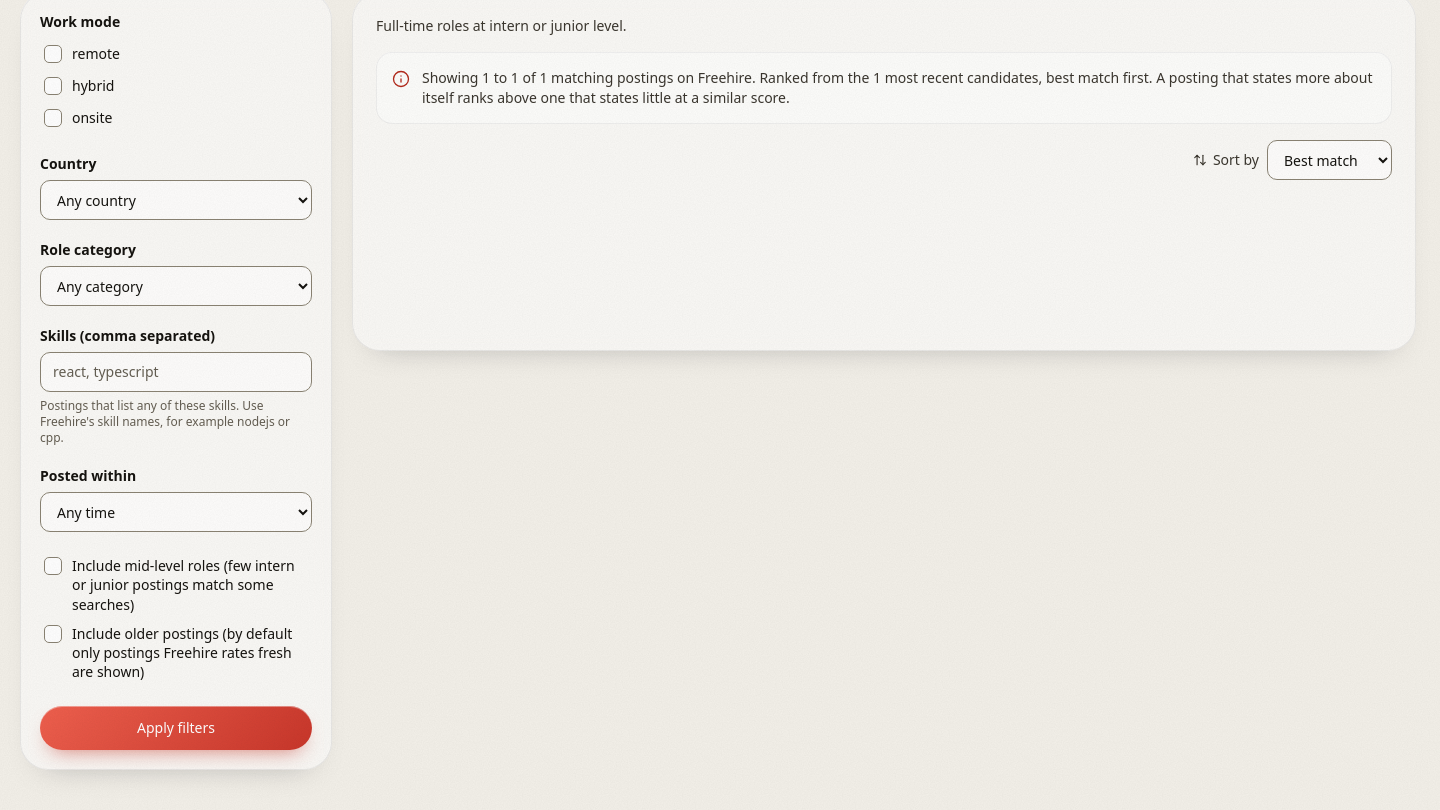
Test: search, filters and paging › includes older postings and broadens full-time roles only when the student chooses to
The width and height of the screenshot is (1440, 810).
(page scrolled)
Click the checkbox labelled "Include mid-level roles" at x=176, y=585, box [40,552,312,618]
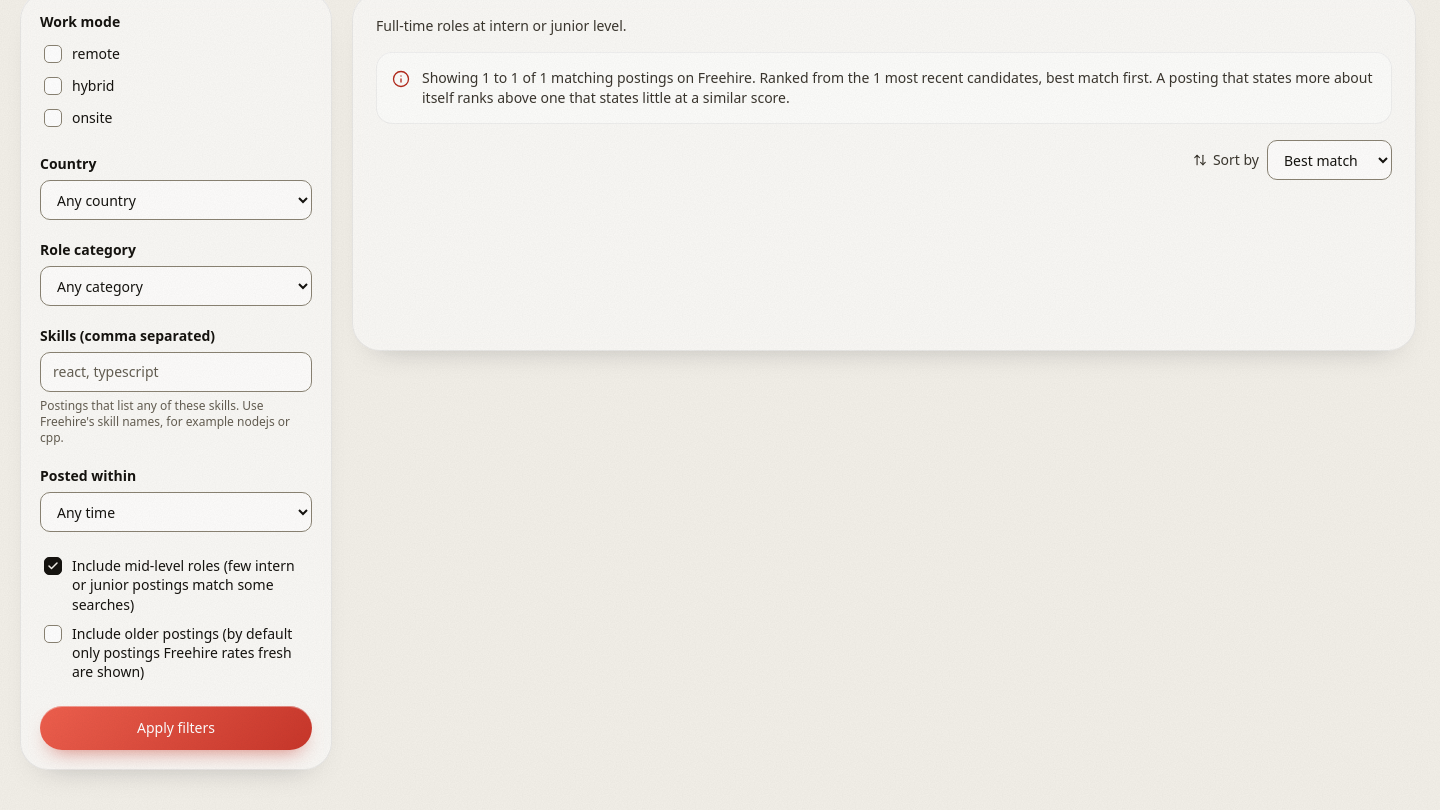
Click the checkbox labelled "Include older postings" at x=176, y=653, box [40,620,312,686]
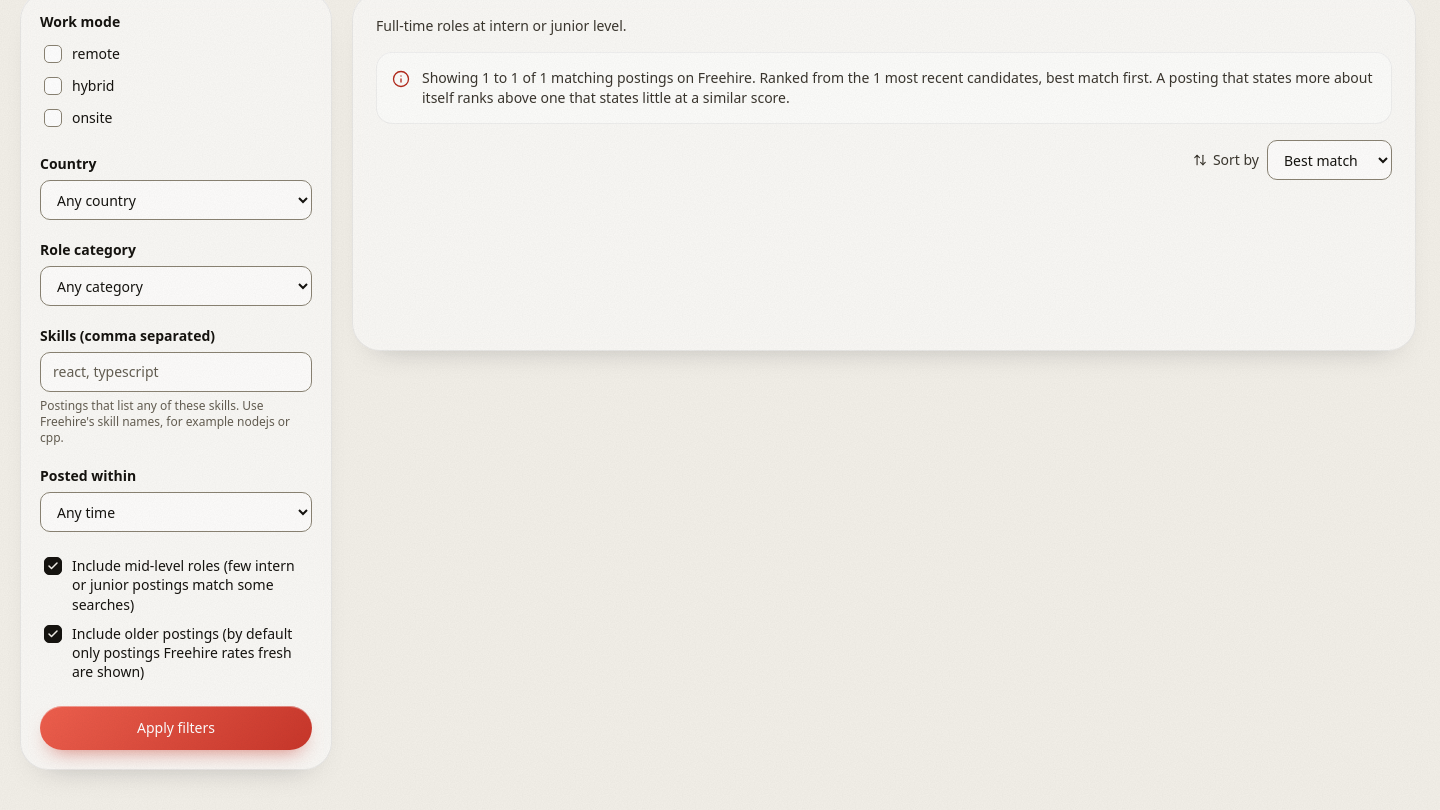
Click the button "Apply filters" at x=176, y=728, box [40,706,312,750]
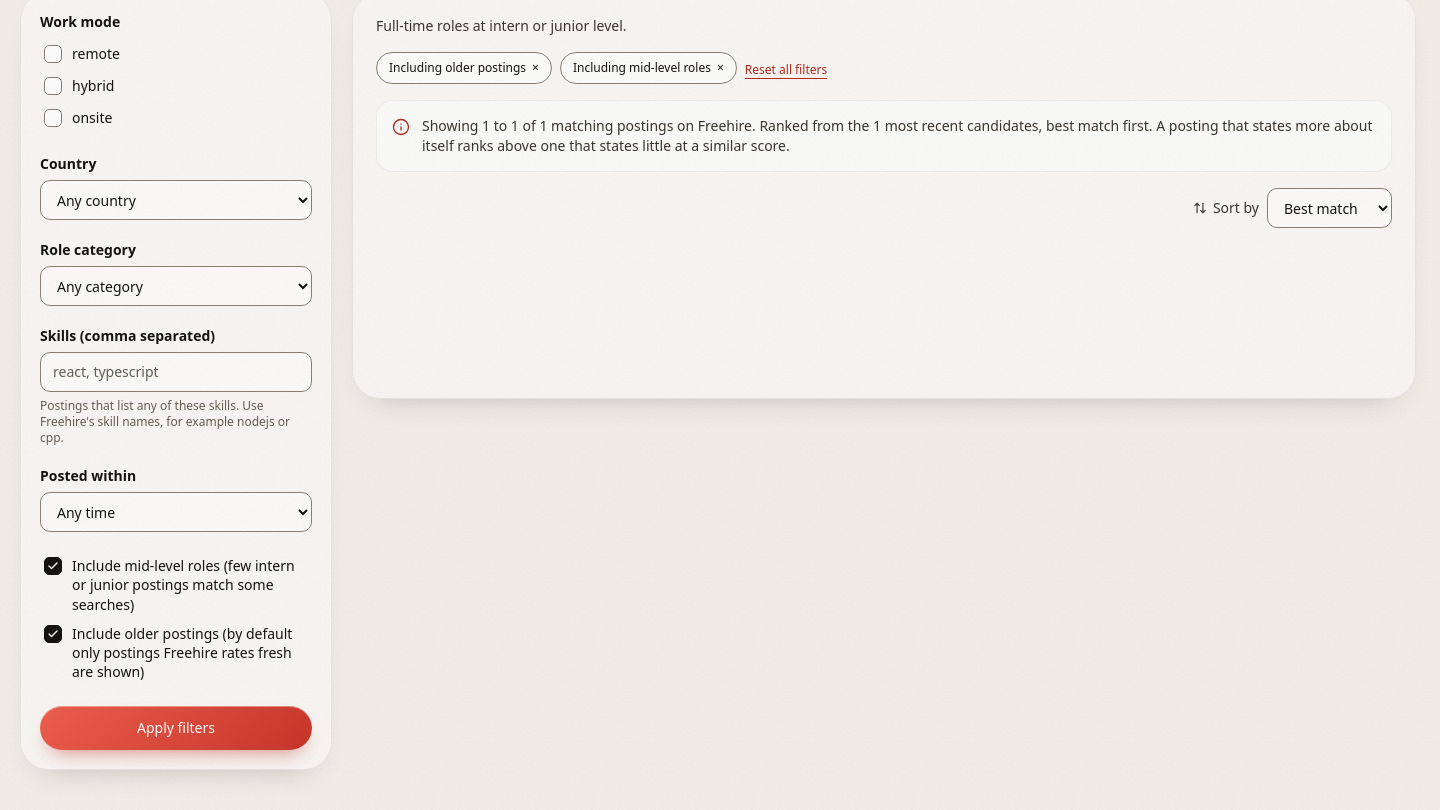
Expected: the button "Including mid-level roles ×" is shown, [560,52,737,84]
Expected: the button "Including older postings ×" is shown, [376,52,552,84]
